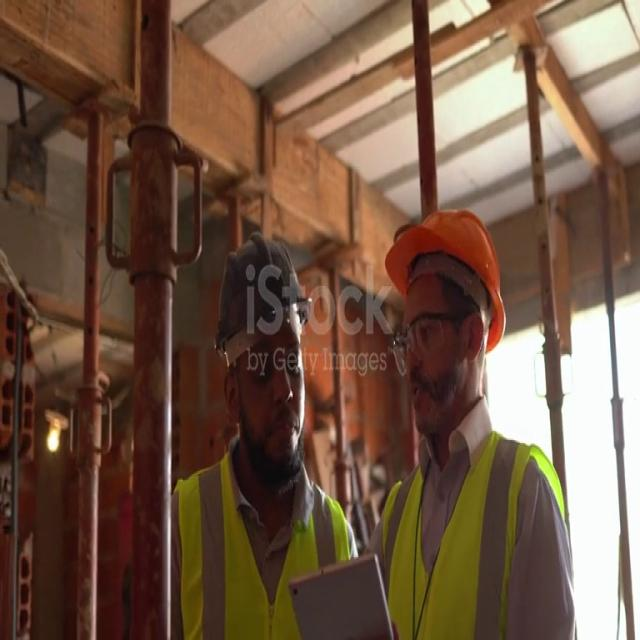capacete: (368, 198, 520, 356), (198, 234, 321, 358)
